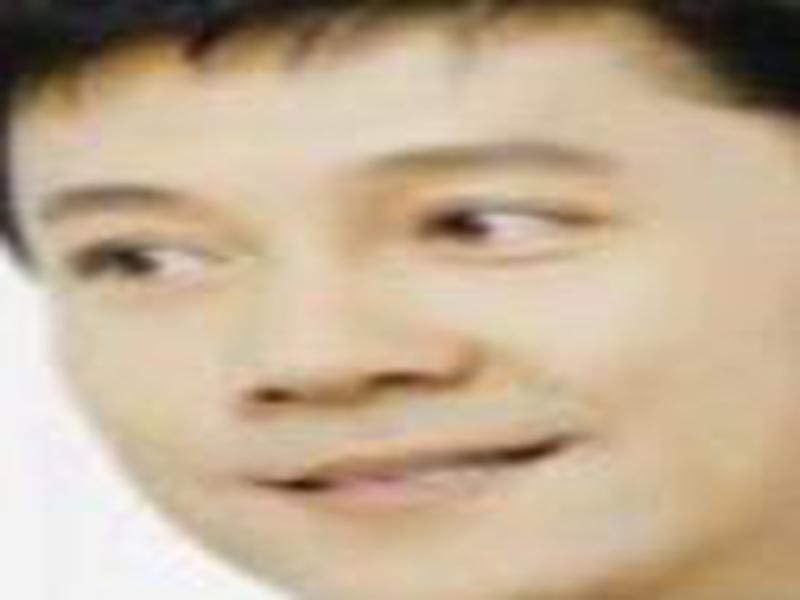without_mask: (12, 74, 776, 600)
